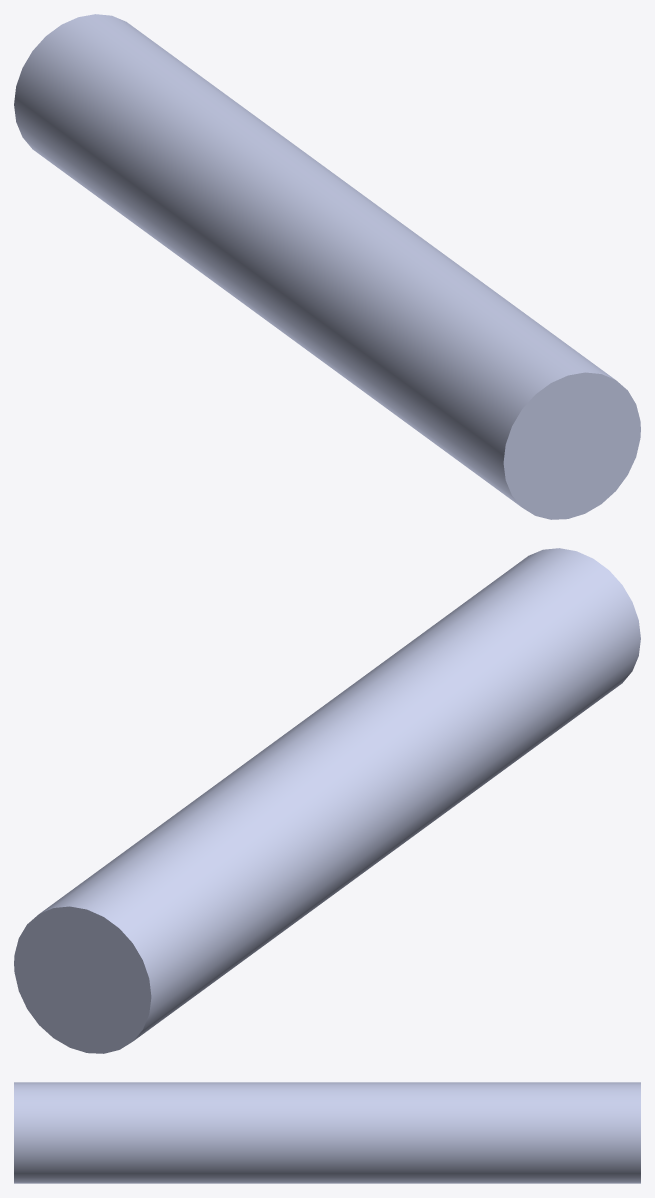
Rendered from tool_wrist_shaft_link.dae.
3 renders of one model, top to bottom at view 1: azimuth 30°, elevation 25°; view 2: azimuth 150°, elevation 25°; view 3: azimuth 270°, elevation 25°, orthographic. The views are drawn at different scales.
Visible parts, largest first — view 1: Actor0; view 2: Actor0; view 3: Actor0.
Boxes of the visible parts, box(x1,y1,x2,y2) form: Actor0: box(14, 14, 640, 519); Actor0: box(14, 548, 640, 1053); Actor0: box(14, 1082, 640, 1183).
Size of the model in its own units: 0.0013 by 0.0013 by 0.00802.
